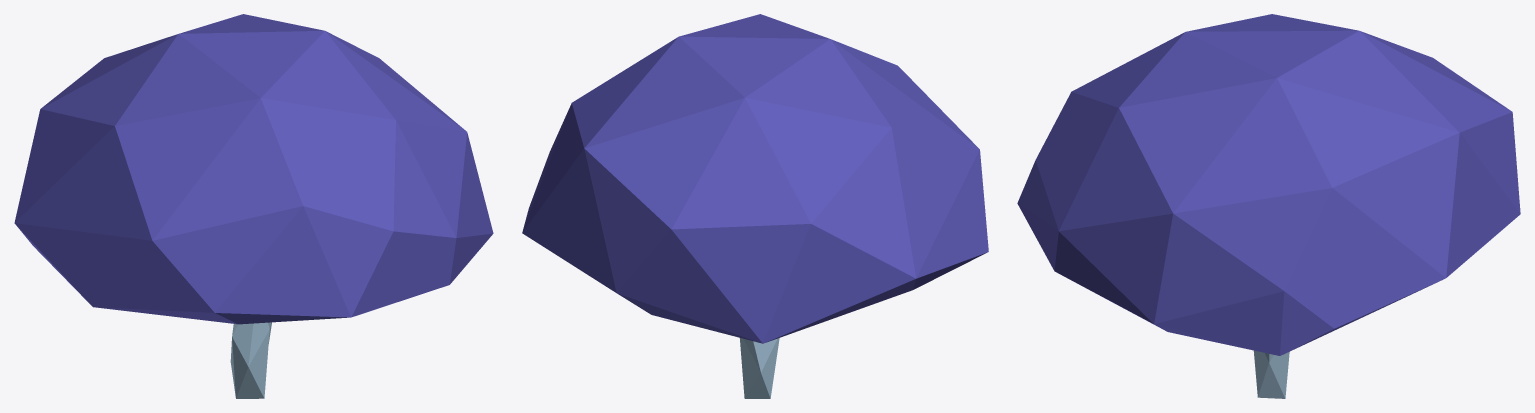
Rendered from mushroomlp1.fbx.
The picture shows the model from 3 angles, left to right: view 1: azimuth 30°, elevation 25°; view 2: azimuth 150°, elevation 25°; view 3: azimuth 270°, elevation 25°; orthographic projection. The views are drawn at different scales.
Parts seen in each view (by area): view 1: mushroom; view 2: mushroom; view 3: mushroom.
Boxes of the visible parts, x1,y1,x2,y2 form: mushroom: (14, 14, 493, 398); mushroom: (522, 14, 988, 398); mushroom: (1017, 14, 1520, 398).
Size of the model in its own units: 1932 by 1568 by 2007.
